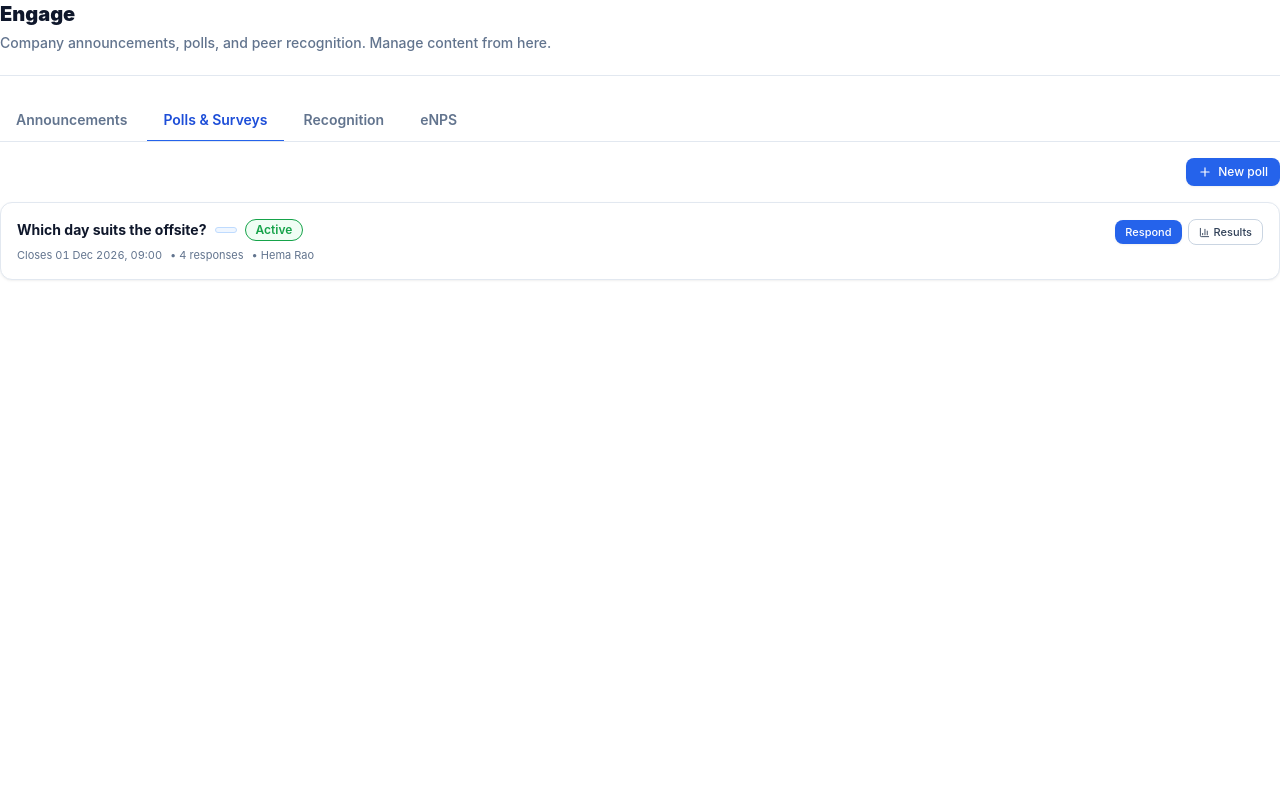
it: polls › results are an HR control, and render a bar per option
Click the button "Results" at (1225, 232), box [1188,219,1263,245]
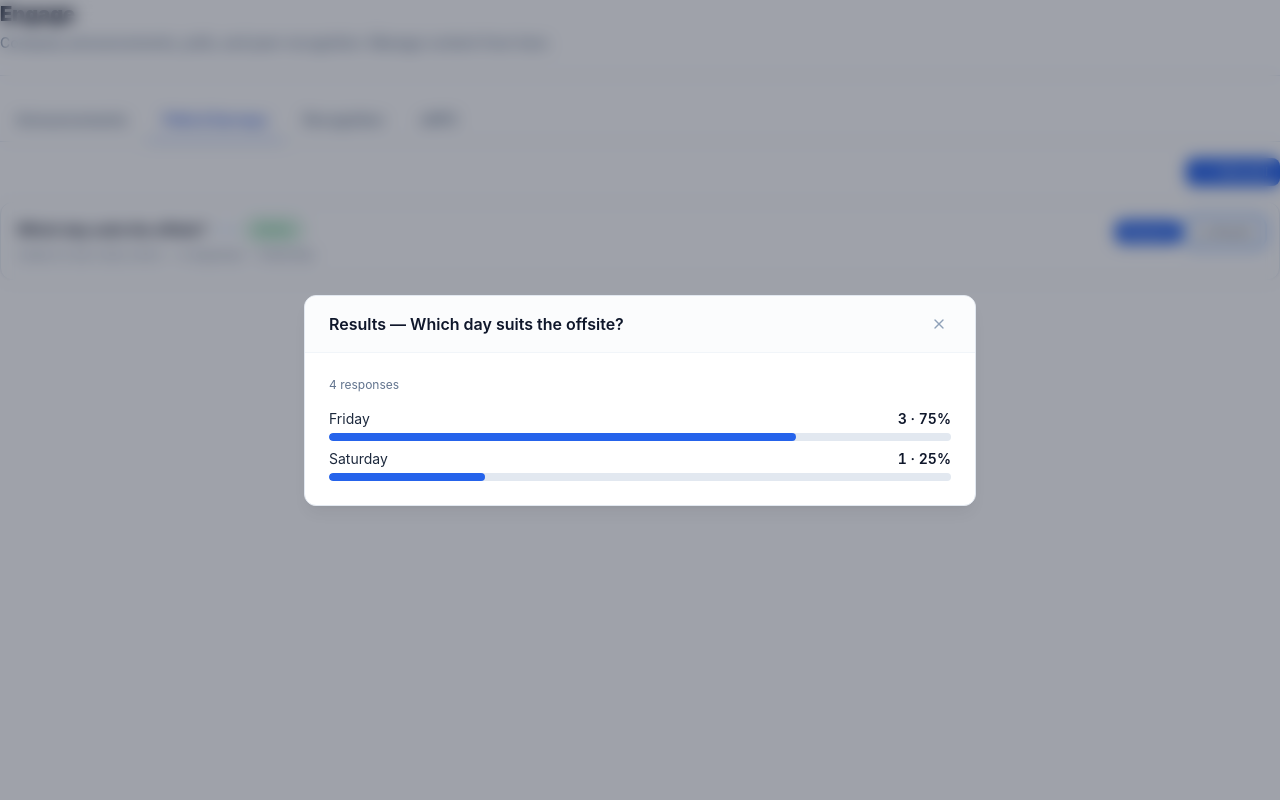
Expected: the text "Friday" is shown, [329,408,370,428]
Expected: the text "3 · 75%" is shown, [898,408,951,428]
Expected: the text "1 · 25%" is shown, [898,448,951,468]
